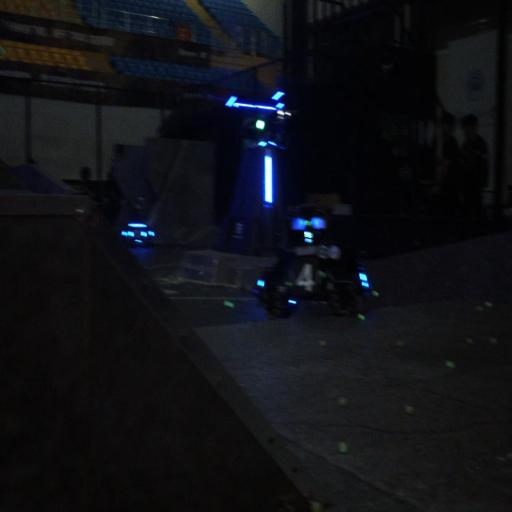target: (286, 257, 327, 303)
